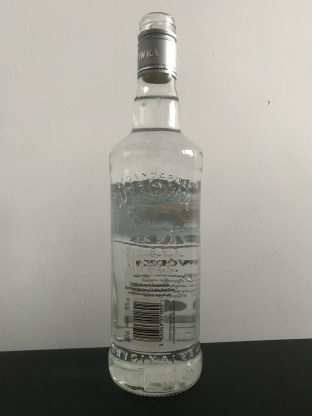nakretka: (135, 10, 179, 84)
